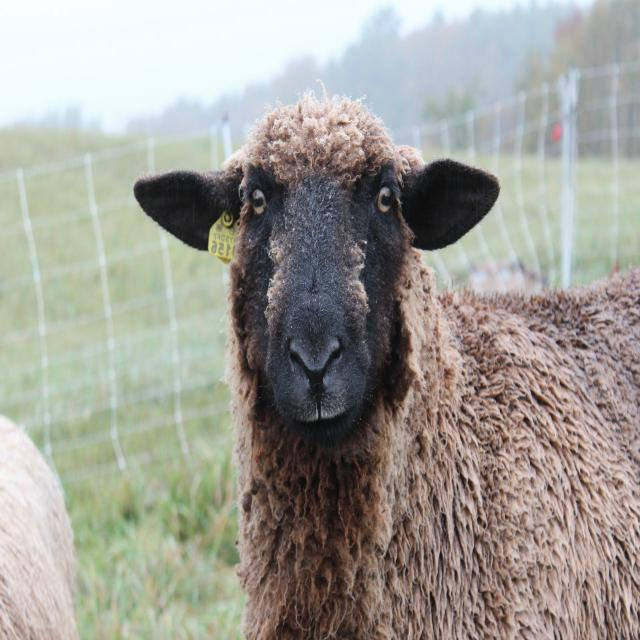sheep: (134, 94, 640, 640)
